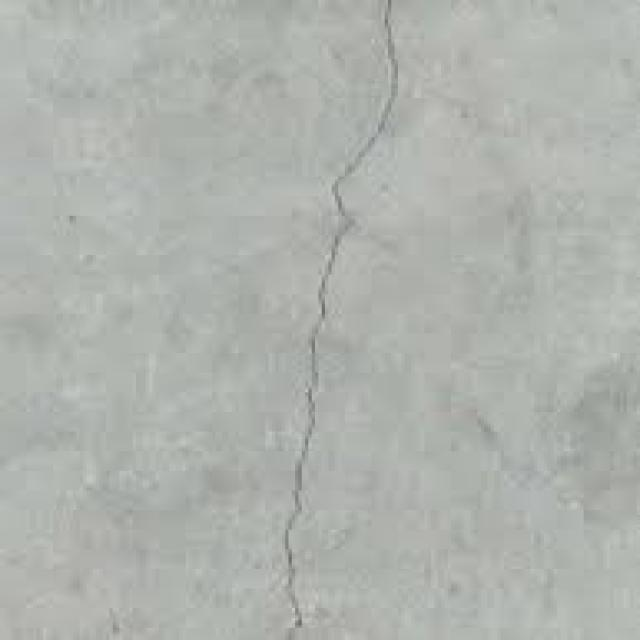vertical crack: (265, 8, 420, 629)
